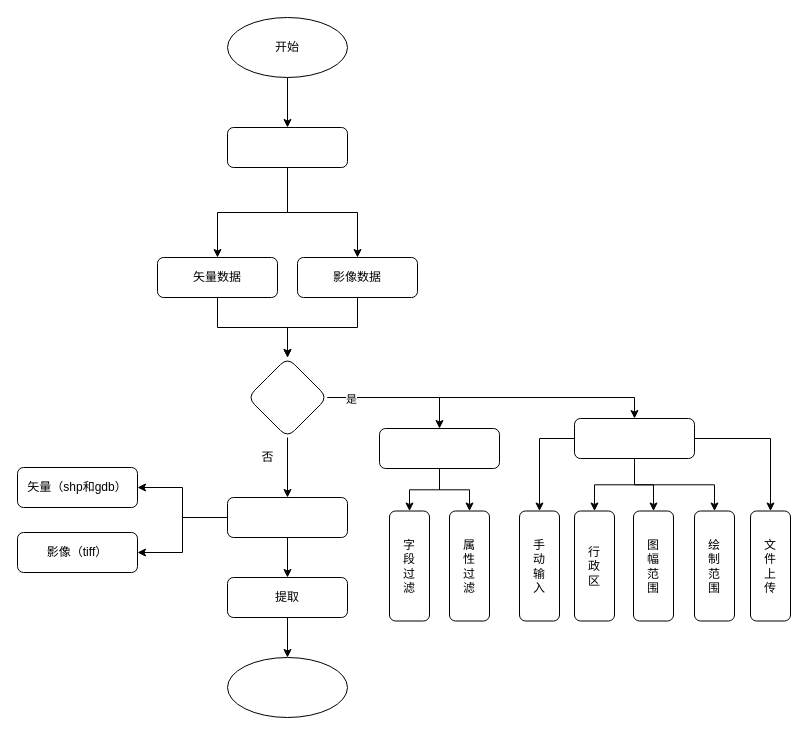
This 808x735 diagram has some shape labels left out. The shapes that lost their labels are listed below. From the top down, each one's centre as x and y in pixels, then its label:
At point (287, 147): "空间数据".
At point (287, 397): "是否过滤提取".
At point (439, 448): "属性过滤条件（仅支持矢量）".
At point (634, 438): "空间过滤条件".
At point (287, 517): "选择提取格式".
At point (287, 687): "结束".
